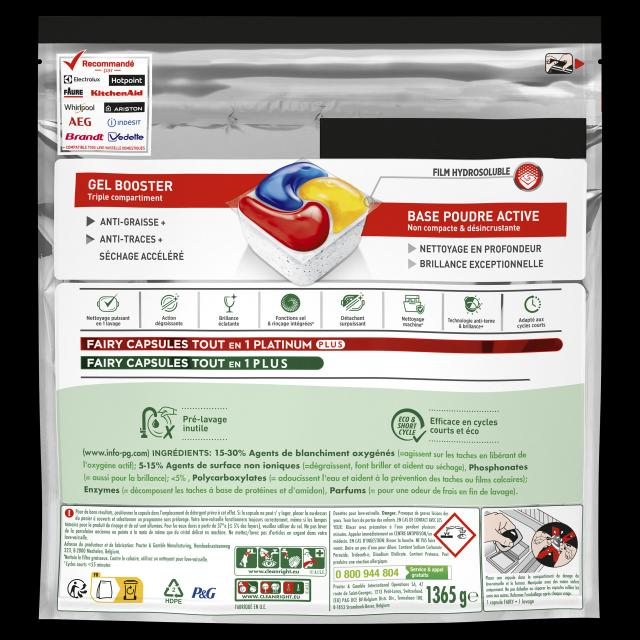GHS_Symbol_CORROSION: (433, 513, 477, 558)
